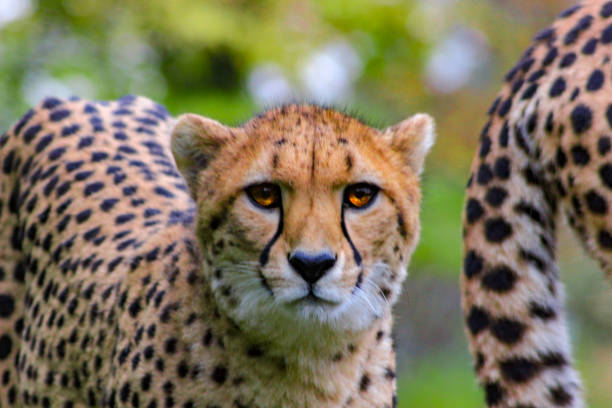cheetah: (159, 93, 441, 363)
